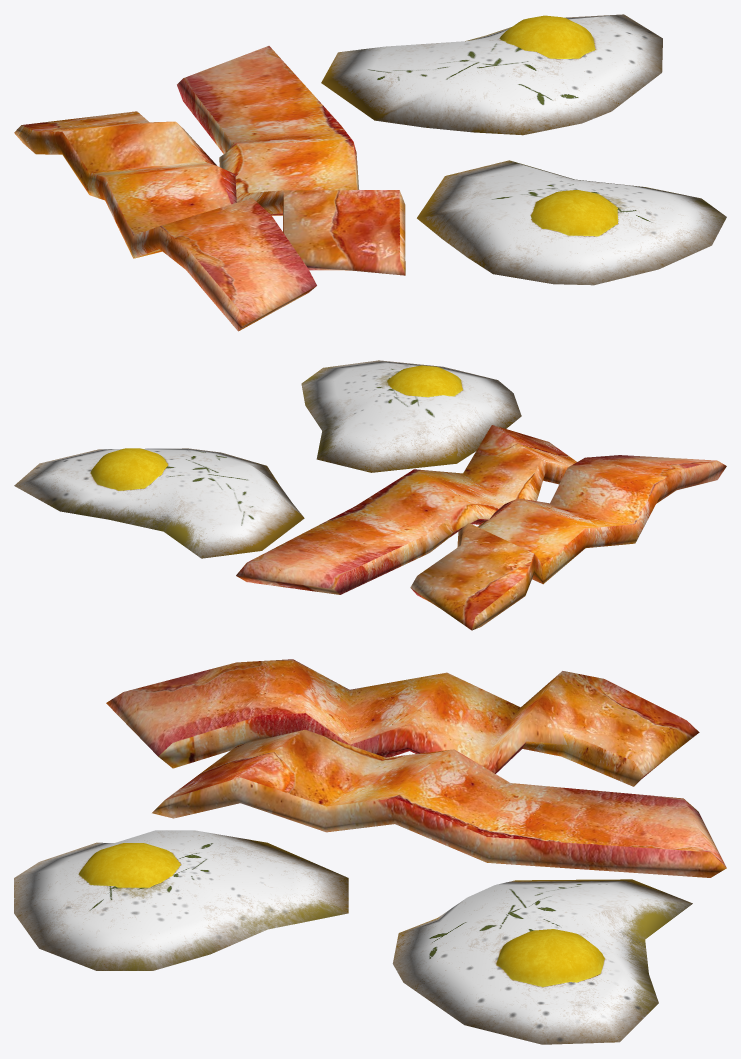
The model's file is breakfast.gltf.
The picture shows the model from 3 angles, top to bottom: view 1: azimuth 30°, elevation 25°; view 2: azimuth 150°, elevation 25°; view 3: azimuth 270°, elevation 25°; orthographic projection. The views are drawn at different scales.
Parts seen in each view (by area): view 1: Plane.002; view 2: Plane.002; view 3: Plane.002.
Part boxes in pixels (left/top/right/bottom): Plane.002: left=14, top=14, right=726, bottom=331; Plane.002: left=14, top=360, right=726, bottom=630; Plane.002: left=14, top=659, right=726, bottom=1044.
Size of the model in its own units: 0.6822 by 0.0545 by 0.6063.
3 materials, 3 textured.
